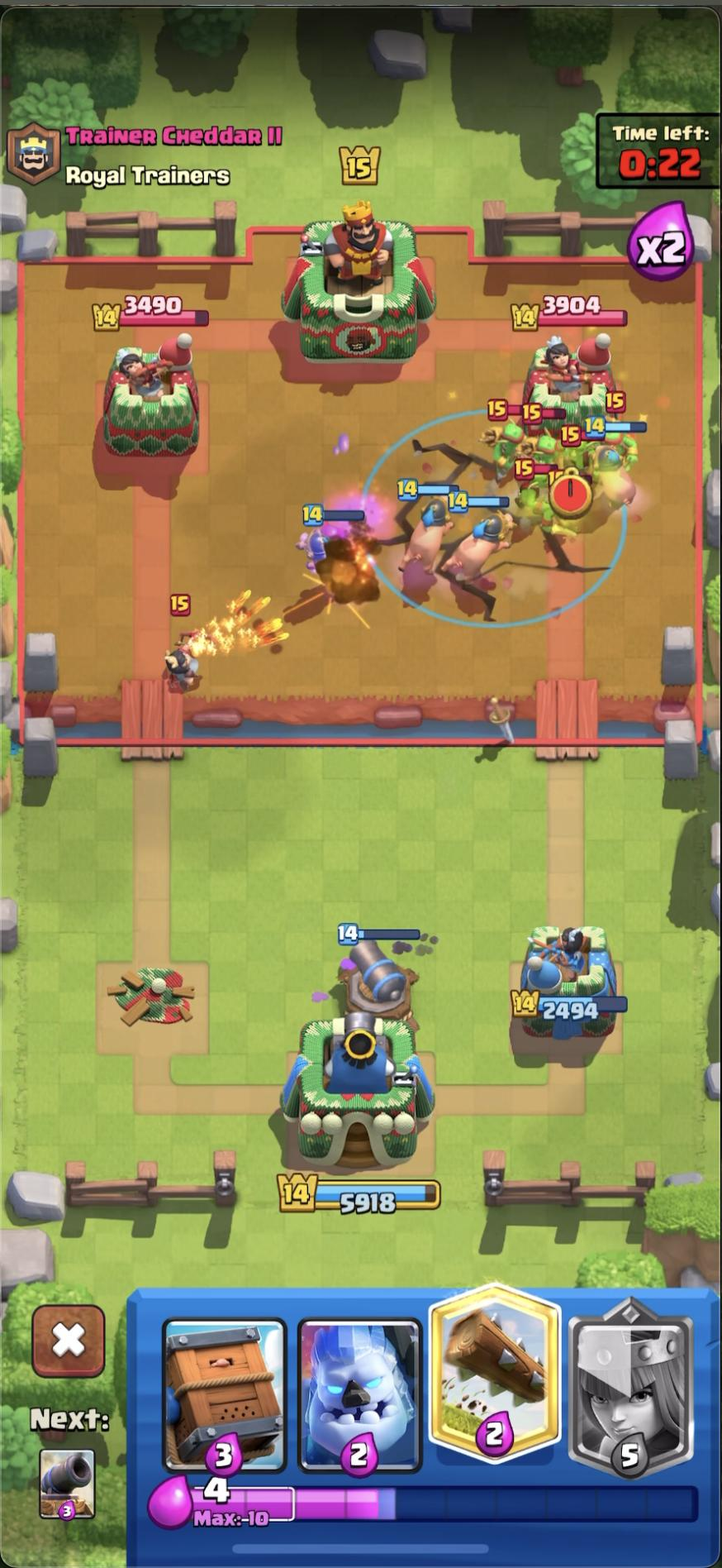card_archerqueen: (568, 1295, 696, 1481)
card_cannon: (36, 1445, 102, 1527)
card_icegolem: (299, 1316, 424, 1481)
card_log: (426, 1282, 564, 1466)
card_royaldelivery: (163, 1316, 290, 1475)
